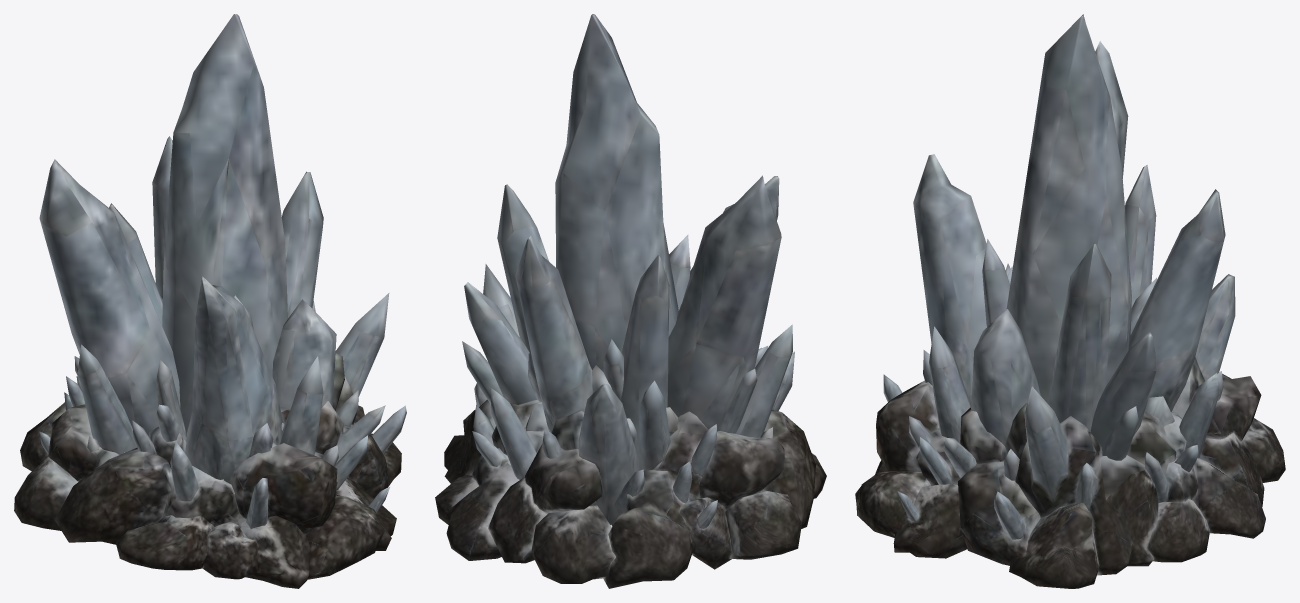
Rendered from p_crystal.glb.
The picture shows the model from 3 angles, left to right: view 1: azimuth 30°, elevation 25°; view 2: azimuth 150°, elevation 25°; view 3: azimuth 270°, elevation 25°; orthographic projection. The views are drawn at different scales.
Parts seen in each view (by area): view 1: p_crystal; view 2: p_crystal; view 3: p_crystal.
Part boxes in pixels (x1,y1,x2,y2): p_crystal: (14,14,406,588); p_crystal: (435,14,826,588); p_crystal: (855,14,1285,588).
Bounding box in the file's own units: 0.8 × 1.05 × 0.7966.
Materials: 1 (1 with a texture image).
